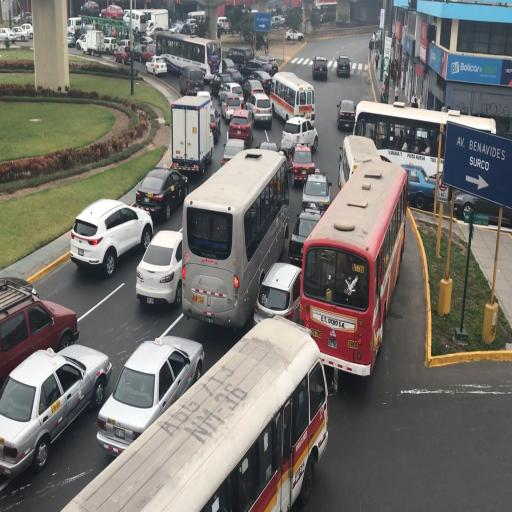auto: (59, 317, 314, 508), (1, 344, 111, 482), (96, 333, 204, 452), (1, 277, 78, 403), (70, 194, 152, 274), (135, 226, 185, 306), (254, 260, 302, 327), (135, 164, 188, 222), (286, 205, 324, 265), (68, 216, 101, 269), (280, 114, 317, 155), (300, 171, 330, 213), (288, 143, 318, 184), (226, 110, 255, 148), (246, 90, 272, 127), (210, 70, 240, 98), (221, 88, 245, 122), (244, 70, 273, 98), (180, 64, 204, 96), (243, 58, 274, 82), (222, 137, 249, 164), (226, 46, 252, 72), (336, 98, 356, 130), (258, 140, 281, 162), (220, 57, 241, 80), (145, 55, 167, 76), (131, 42, 152, 63), (115, 42, 134, 65), (101, 4, 124, 21), (312, 56, 328, 80), (211, 106, 221, 143), (336, 54, 350, 78), (180, 19, 201, 35), (80, 0, 100, 16), (0, 27, 17, 45), (10, 26, 30, 41), (102, 36, 118, 53), (285, 28, 304, 41), (82, 20, 96, 35), (75, 34, 87, 51), (67, 32, 76, 48), (270, 16, 282, 28), (222, 21, 231, 34), (24, 12, 32, 24), (67, 25, 75, 37), (277, 14, 286, 24)
bus: (270, 69, 313, 127), (80, 30, 104, 56)
moto: (301, 149, 401, 376), (356, 101, 494, 203), (340, 133, 382, 195), (126, 7, 167, 34), (67, 16, 82, 37)
